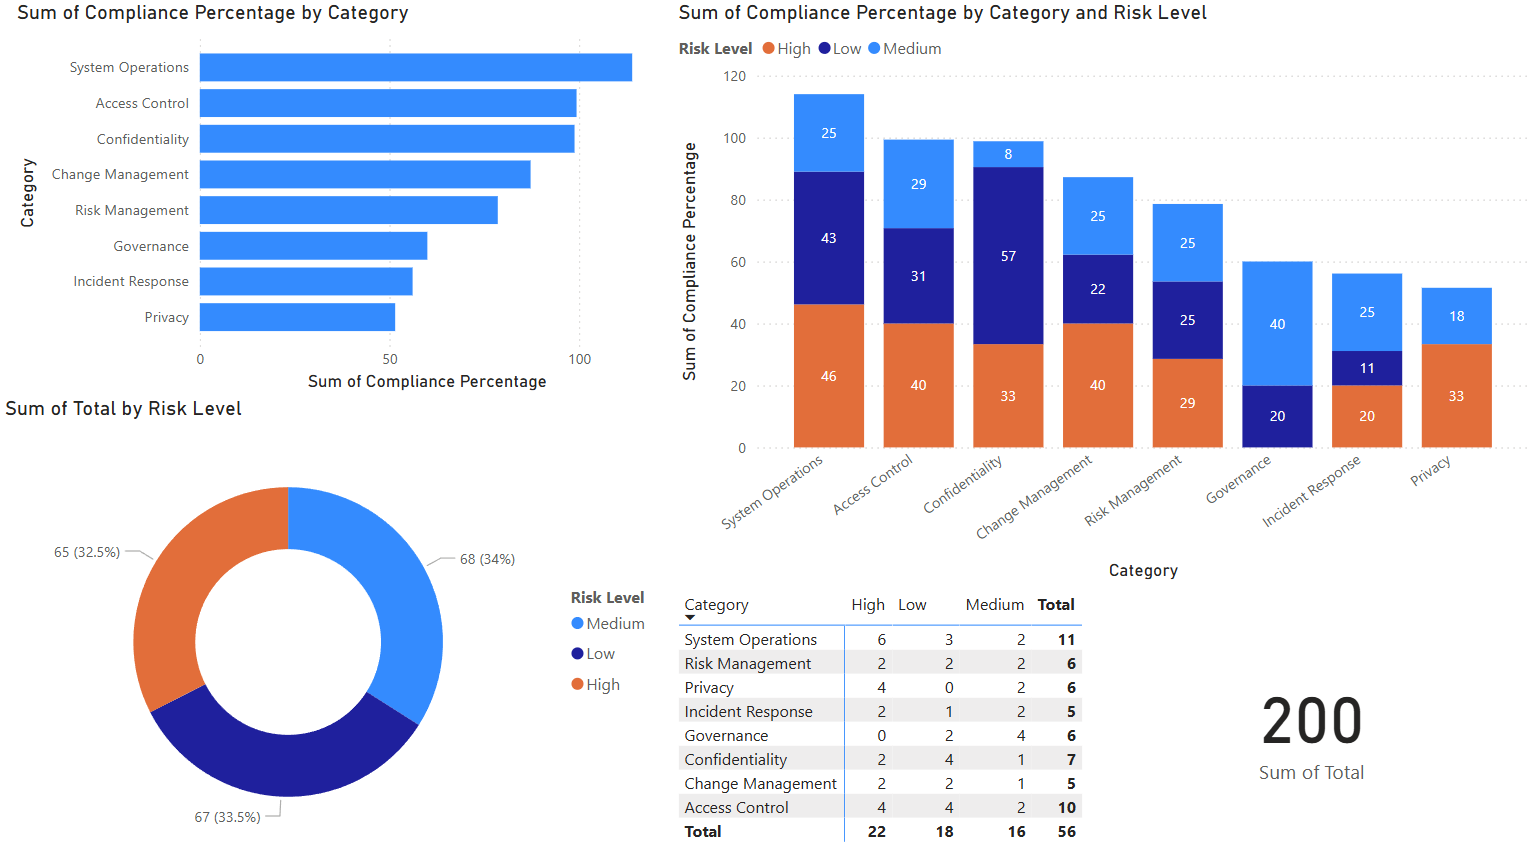

The dashboard page shown, as its layout file describes it:
{"tool":"powerbi","page":{"name":"Page 1","canvas":[1280,720],"ordinal":0},"visuals":[{"type":"clusteredBarChart","fields":{"Y":["Sum(readiness_summary.Compliance Percentage)"],"Category":["readiness_summary.Category"]},"box":[10,0,551.2,330],"z":0},{"type":"donutChart","fields":{"Y":["Sum(readiness_summary.Total)"],"Category":["readiness_summary.Risk Level"]},"box":[0,330,561.2,390],"z":1000},{"type":"columnChart","fields":{"Category":["readiness_summary.Category"],"Series":["readiness_summary.Risk Level"],"Y":["Sum(readiness_summary.Compliance Percentage)"]},"box":[561.2,0,718.8,487.5],"z":2000},{"type":"pivotTable","fields":{"Rows":["readiness_summary.Category"],"Columns":["readiness_summary.Risk Level"],"Values":["Sum(readiness_summary.Implemented)"]},"box":[561.2,487.5,346.2,232.5],"z":3000},{"type":"card","fields":{"Values":["Sum(readiness_summary.Total)"]},"box":[907.5,487.5,372.5,232.5],"z":4000}]}

Visuals, with their boxes in screenshot pixels (x1, y1, x2, y2), scaled from the page's 1280x720 canvas onto the 1532x860 screenshot:
clusteredBarChart - Sum(readiness_summary.Compliance Percentage) x readiness_summary.Category: rect(12, 0, 672, 394)
donutChart - Sum(readiness_summary.Total) x readiness_summary.Risk Level: rect(0, 394, 672, 859)
columnChart - readiness_summary.Category x readiness_summary.Risk Level: rect(672, 0, 1531, 582)
pivotTable - readiness_summary.Category x readiness_summary.Risk Level: rect(672, 582, 1086, 859)
card - Sum(readiness_summary.Total): rect(1086, 582, 1531, 859)
